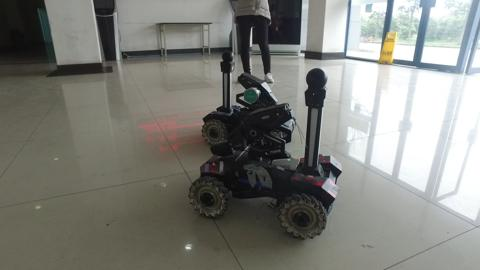chariot: (190, 70, 343, 243), (196, 46, 298, 146)
